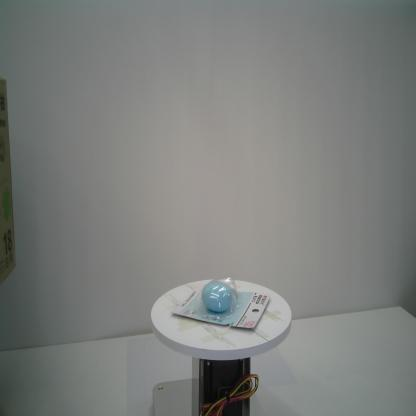Stationery: (170, 275, 270, 329)
